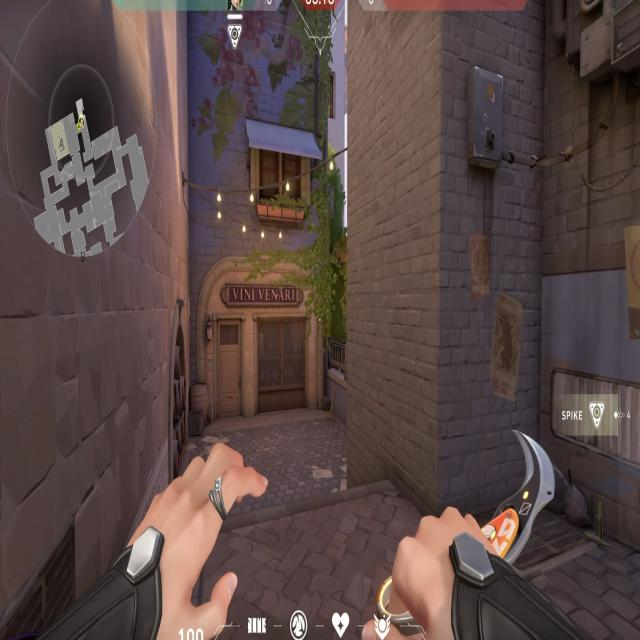Wine: (220, 257, 558, 467)
